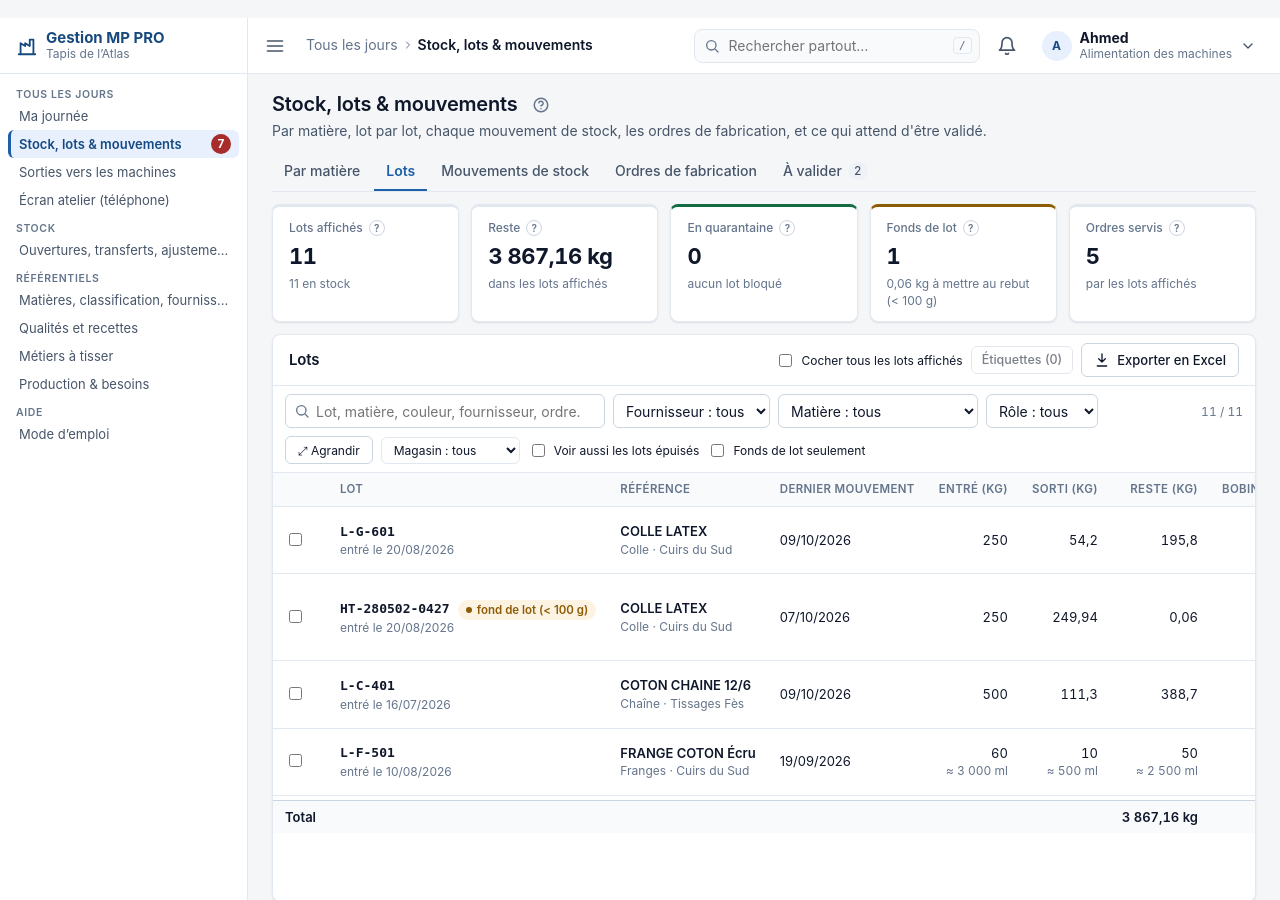
Scenario: Stock › Lots › alimentation : la marque, sans le geste ; « Fonds de lot seulement » ne garde que lui
(page scrolled)
Expected: the text "fond de lot (< 100 g)" is shown, [458,600,596,620]
Click the checkbox labelled "Fonds de lot seulement" at (718, 450), box [711,444,724,457]
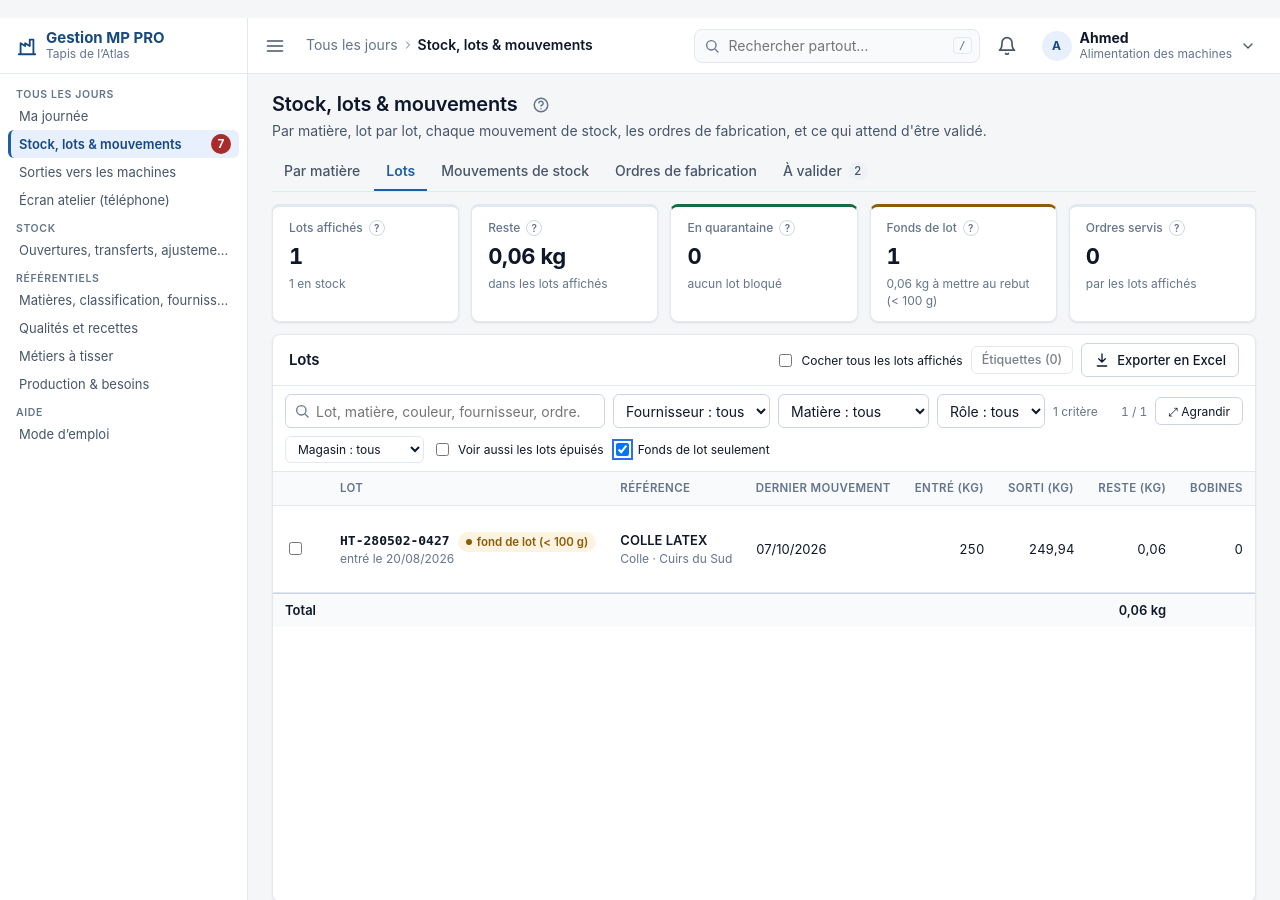
Result: the number of checkboxes named "Étiquette du lot" is 1 at [289,542,302,555]
